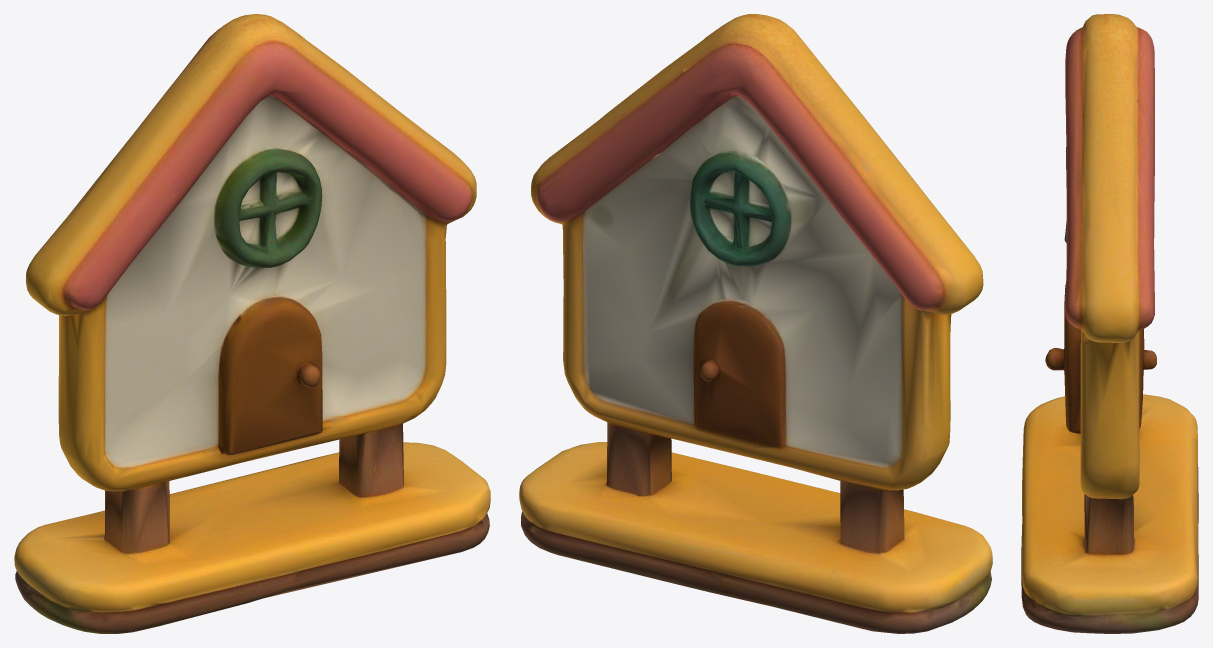
File: icon-house.glb
3 renders of one model, left to right at view 1: azimuth 30°, elevation 25°; view 2: azimuth 150°, elevation 25°; view 3: azimuth 270°, elevation 25°, orthographic. The views are drawn at different scales.
Visible parts, largest first — view 1: Mesh_0; view 2: Mesh_0; view 3: Mesh_0.
Part boxes in pixels (left/top/right/bottom): Mesh_0: left=14, top=14, right=490, bottom=633; Mesh_0: left=519, top=14, right=992, bottom=633; Mesh_0: left=1021, top=14, right=1198, bottom=633.
Bounding box in the file's own units: 1.69 × 2 × 0.6215.
1 material, 1 textured.
